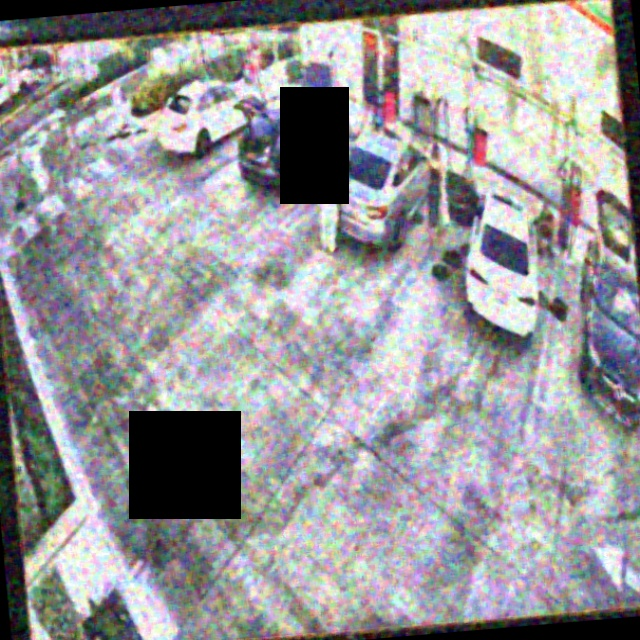Car: (442, 161, 546, 344), (230, 66, 348, 197), (324, 123, 440, 252), (150, 72, 268, 160)
